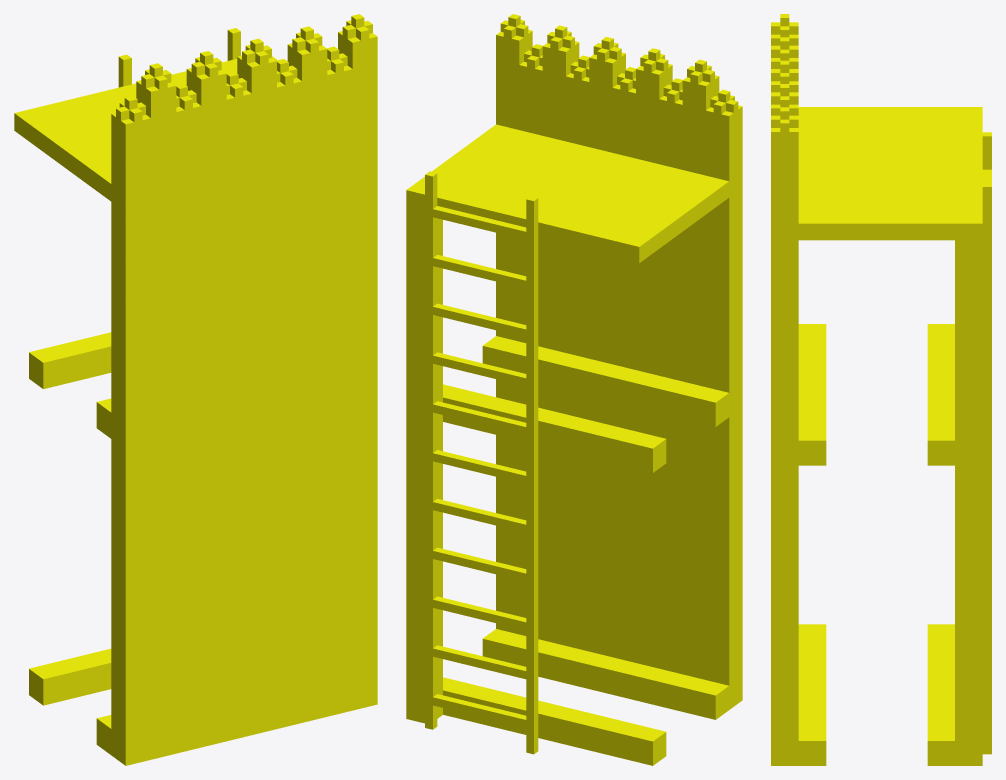
The model's file is voxel-rangers-wall-with-ladder.glb.
3 renders of one model, left to right at view 1: azimuth 30°, elevation 25°; view 2: azimuth 150°, elevation 25°; view 3: azimuth 270°, elevation 25°, orthographic. The views are drawn at different scales.
Parts seen in each view (by area): view 1: ObjObject.008; view 2: ObjObject.008; view 3: ObjObject.008.
Boxes of the visible parts, x1=… form: ObjObject.008: x1=14, y1=14, x2=377, y2=765; ObjObject.008: x1=406, y1=14, x2=742, y2=765; ObjObject.008: x1=771, y1=14, x2=991, y2=765.
Size of the model in its own units: 3 by 7.8 by 2.4.
